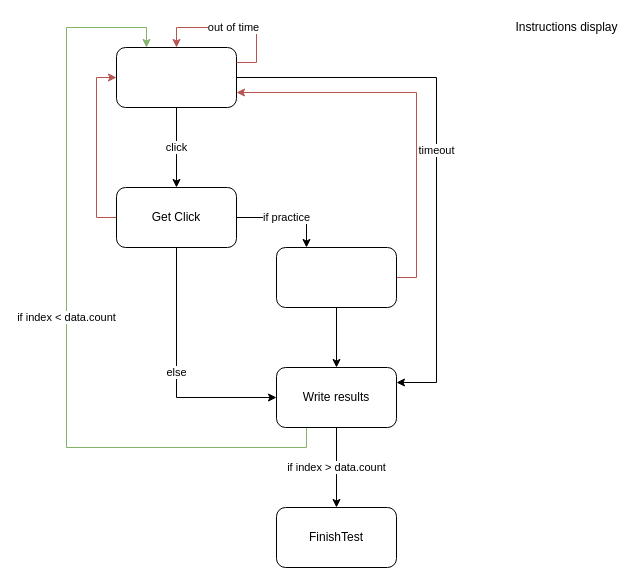
Some shapes in this 644 by 585 pixel diagram are drawn without their labels. Here are the shapes that lost their labels. From the top down, the centre of each, then its label:
the point at 176,77: Show Trial
the point at 336,277: Show Feedback
